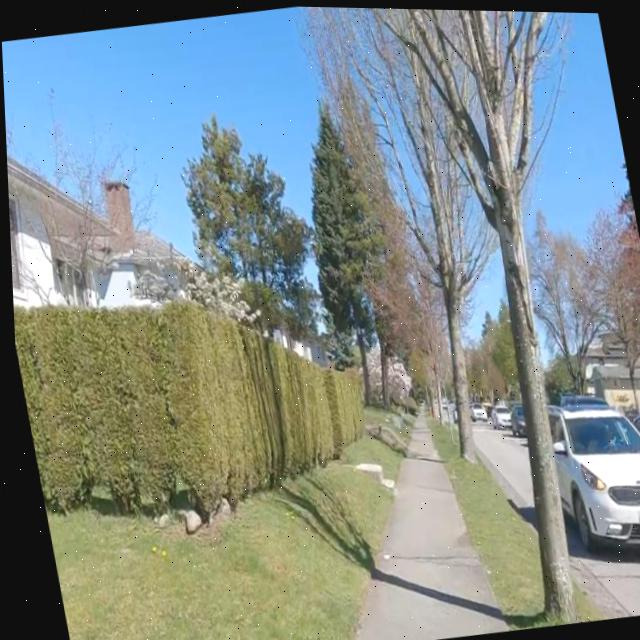Automobile: (546, 402, 640, 545), (507, 403, 521, 434), (488, 403, 507, 425), (467, 401, 483, 419), (630, 412, 640, 431)
Road: (565, 531, 640, 616), (470, 421, 528, 505)
Sidewalk: (349, 418, 501, 640)
